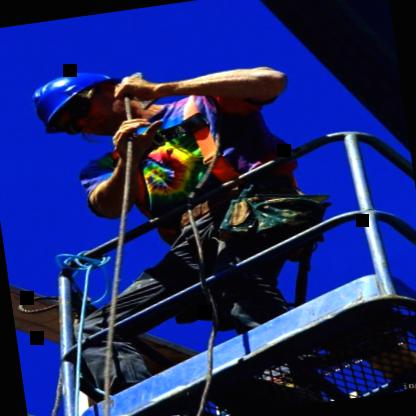helmet: (17, 56, 151, 150)
